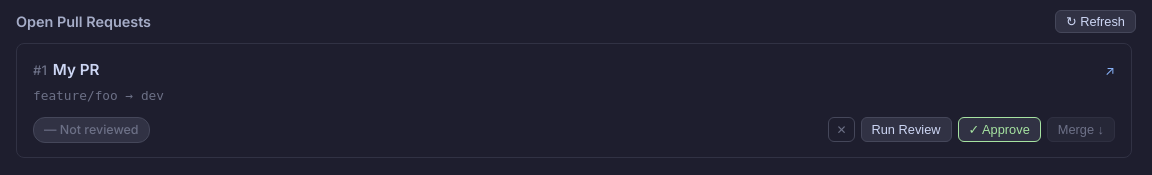
Test: PRPanel — inflight state cleared by WS events › clears approveInFlight when prStateChangedEvent arrives
Click the button "✓ Approve" at (999, 130), box [958, 117, 1041, 142]
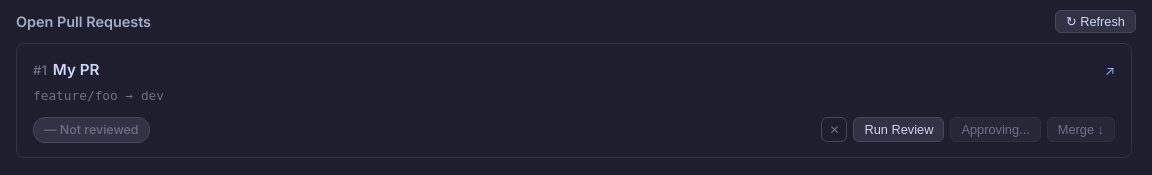
Now the button "Approving..." is shown, box [950, 117, 1041, 142]
